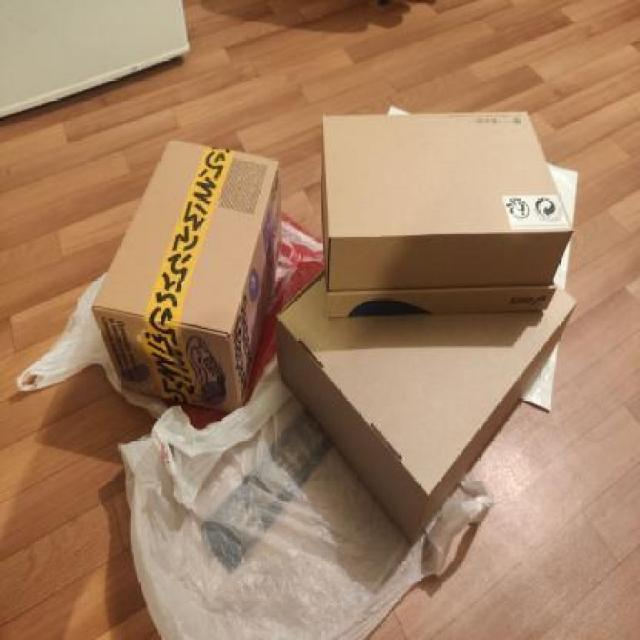box: (280, 266, 586, 532), (313, 110, 575, 320), (94, 138, 276, 406)
